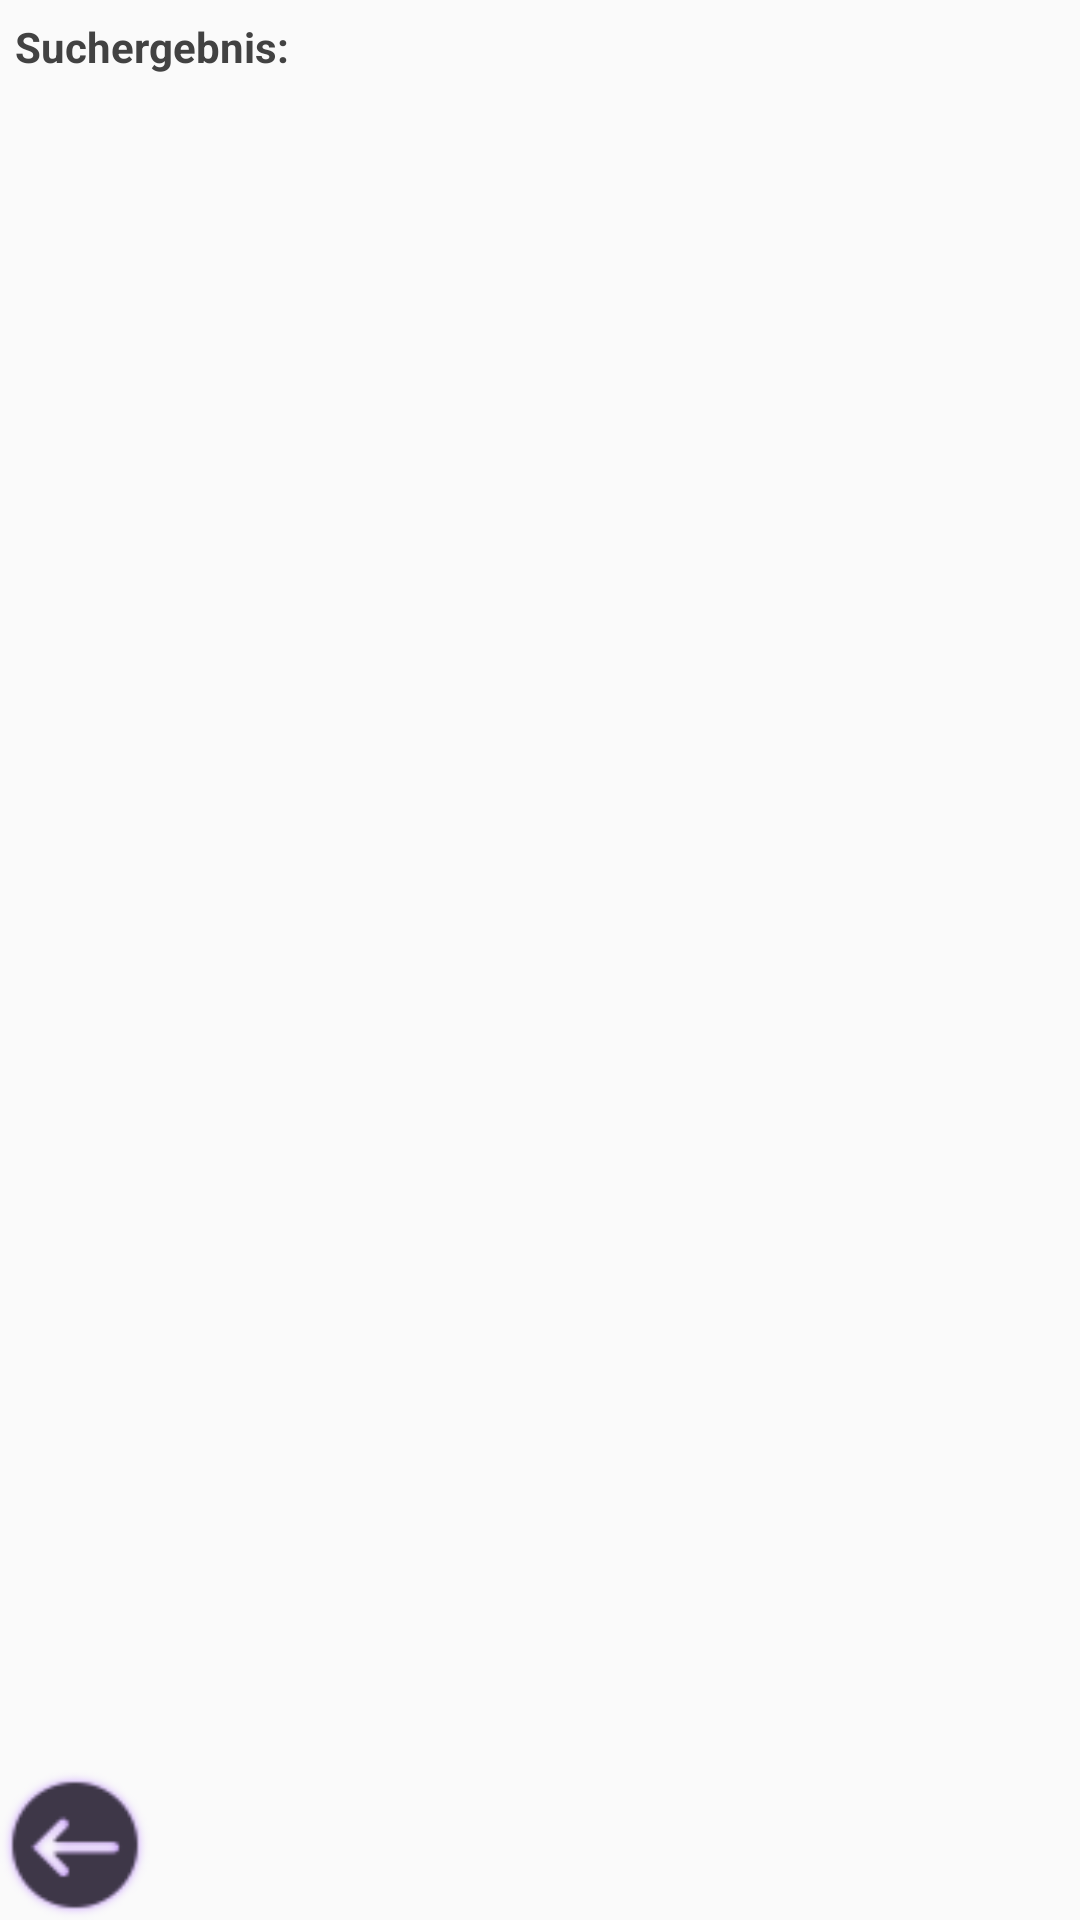

Icons on this 1080w x 1920h Android screen, each with the point to tap as point (x, y):
back: point (75, 1845)
